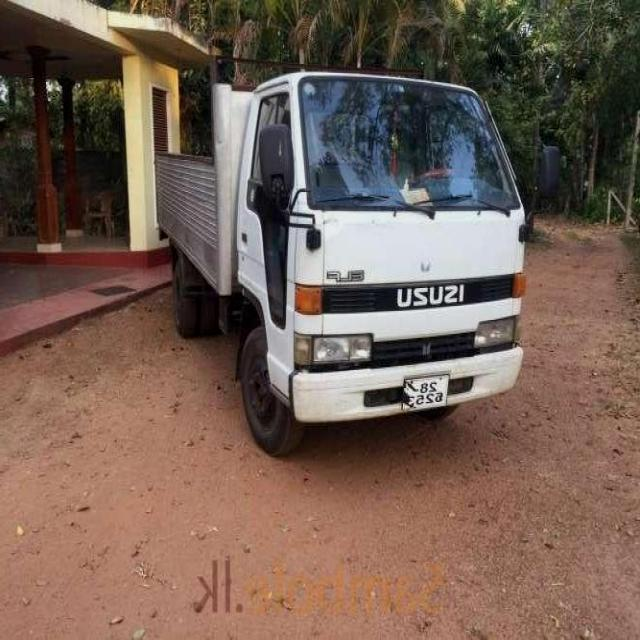Truck: (146, 54, 527, 451)
